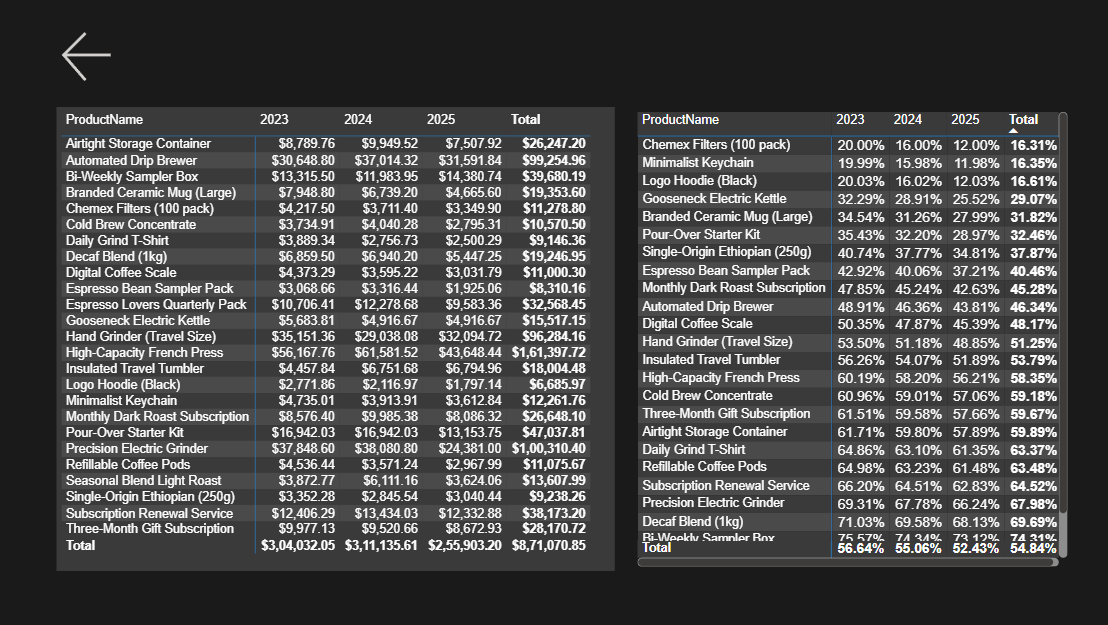

Layout of this report page (visuals, bound fields, positions):
{"tool":"powerbi","page":{"name":"Page 2","canvas":[1280,720],"ordinal":1},"visuals":[{"type":"pivotTable","fields":{"Columns":["Query1.OrderDate.Variation.Date Hierarchy.Year","Query1.OrderDate.Variation.Date Hierarchy.Quarter","Query1.OrderDate.Variation.Date Hierarchy.Month","Query1.OrderDate.Variation.Date Hierarchy.Day"],"Rows":["Query1.ProductName"],"Values":["Sum(Query1.CleanedRevenue)"]},"box":[120,139.7,592,492],"z":0},{"type":"pivotTable","fields":{"Columns":["Query1.OrderDate.Variation.Date Hierarchy.Year","Query1.OrderDate.Variation.Date Hierarchy.Quarter","Query1.OrderDate.Variation.Date Hierarchy.Month","Query1.OrderDate.Variation.Date Hierarchy.Day"],"Rows":["Query1.ProductName"],"Values":["Query1.Margin"]},"box":[730,140,466,492],"z":1000},{"type":"actionButton","box":[120,54.2,147.5,65],"z":2000}]}

Visuals, with their boxes in screenshot pixels (x1, y1, x2, y2), scaled from the page's 1280x720 canvas onto the 1108x625 screenshot:
pivotTable - Query1.OrderDate.Variation.Date Hierarchy.Year x Query1.OrderDate.Variation.Date Hierarchy.Quarter: x1=104, y1=121, x2=616, y2=548
pivotTable - Query1.OrderDate.Variation.Date Hierarchy.Year x Query1.OrderDate.Variation.Date Hierarchy.Quarter: x1=632, y1=122, x2=1035, y2=549
actionButton: x1=104, y1=47, x2=232, y2=103
